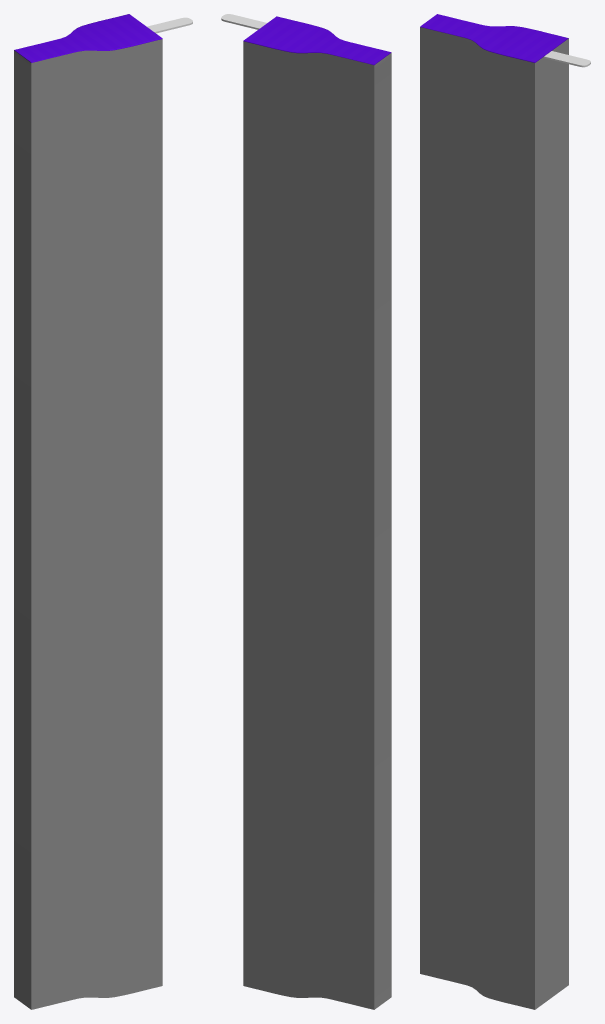
Rendered from ex_ways.FBX.
3 renders of one model, left to right at view 1: azimuth 30°, elevation 25°; view 2: azimuth 150°, elevation 25°; view 3: azimuth 330°, elevation 25°, orthographic.
Visible parts, largest first — view 1: Object018; view 2: Object018; view 3: Object018, Box002.
Part boxes in pixels (left/top/right/bottom): Object018: left=14, top=14, right=162, bottom=1009; Object018: left=243, top=16, right=391, bottom=1009; Object018: left=420, top=14, right=568, bottom=1009; Box002: left=544, top=51, right=590, bottom=67.
Bounding box in the file's own units: 9.13 × 3.27 × 50.23.
